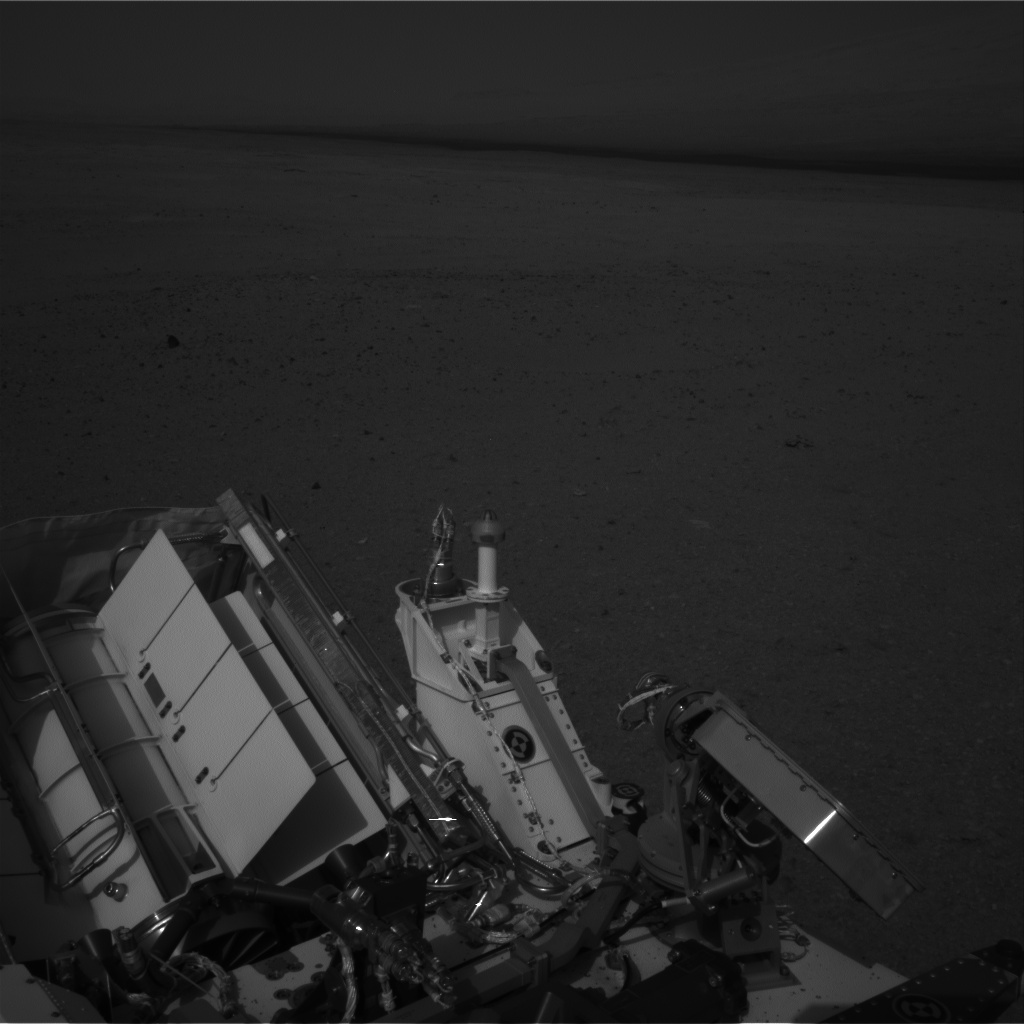soil: (15, 285, 1013, 605)
